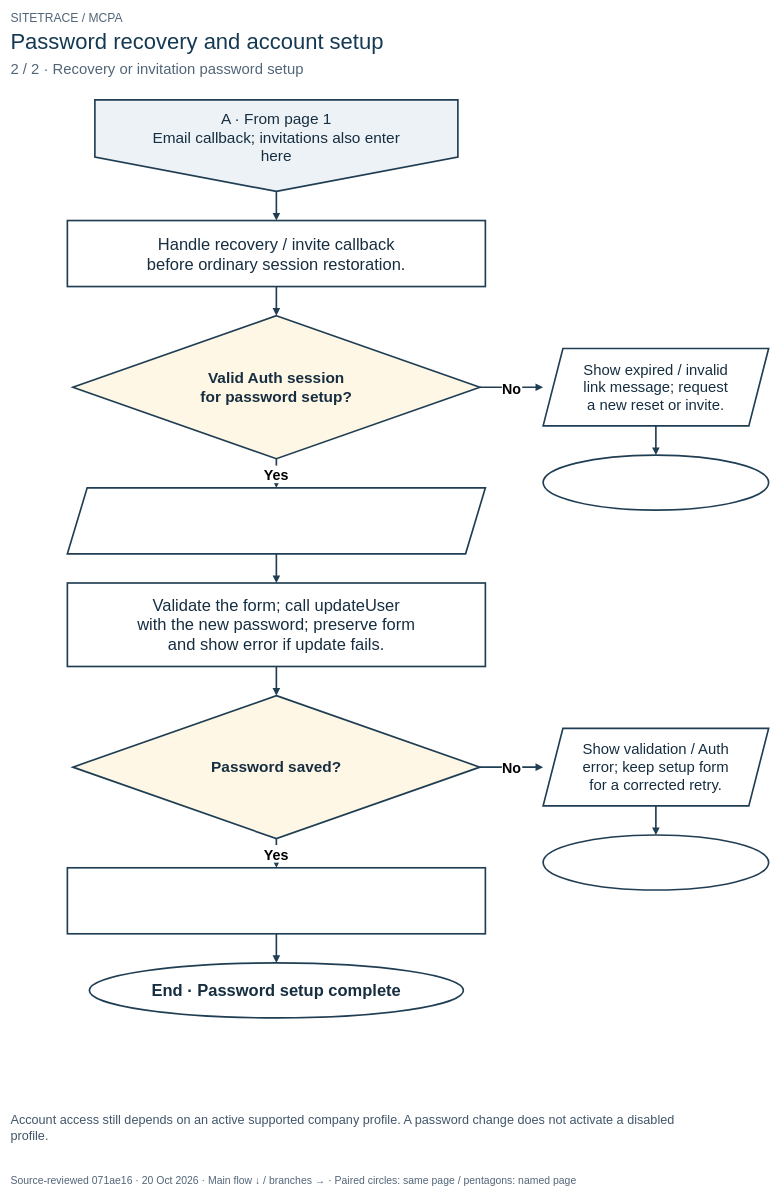
Some shapes in this 779 by 1198 pixel diagram are drawn without their labels. Here are the shapes that lost their labels. From the top down, the centre of each, then its label:
At point 655,482: "End · Setup unavailable".
At point 276,520: "Enter a new password of at least 12 characters.".
At point 655,862: "End · Password not saved".
At point 276,900: "Sign out and show saved confirmation on login; user signs in again.".
